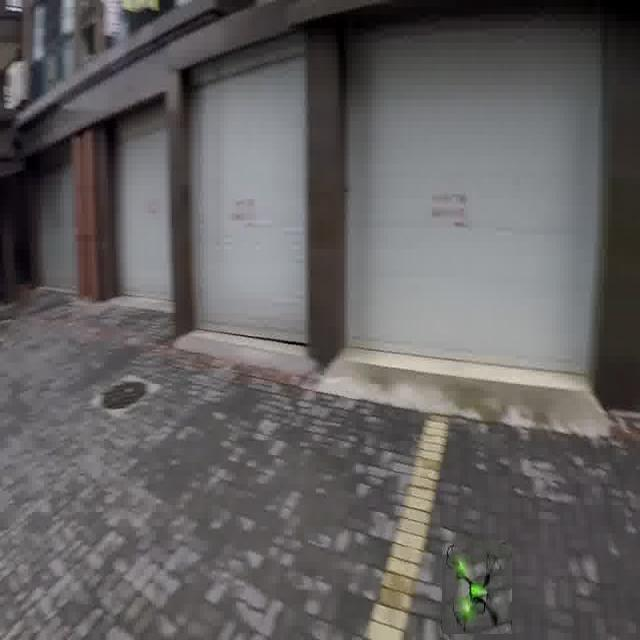drone: (442, 541, 512, 634)
